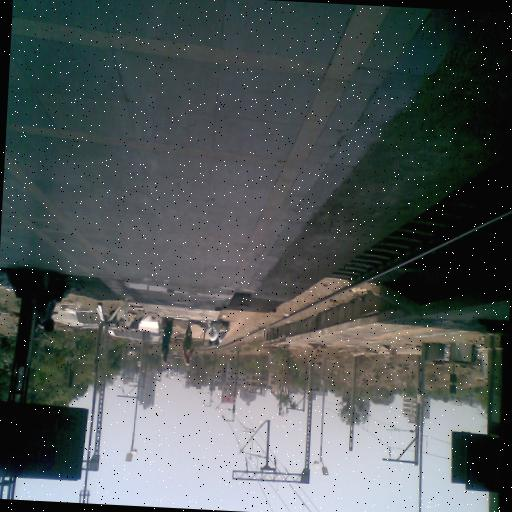platform_edge: (215, 0, 458, 313)
